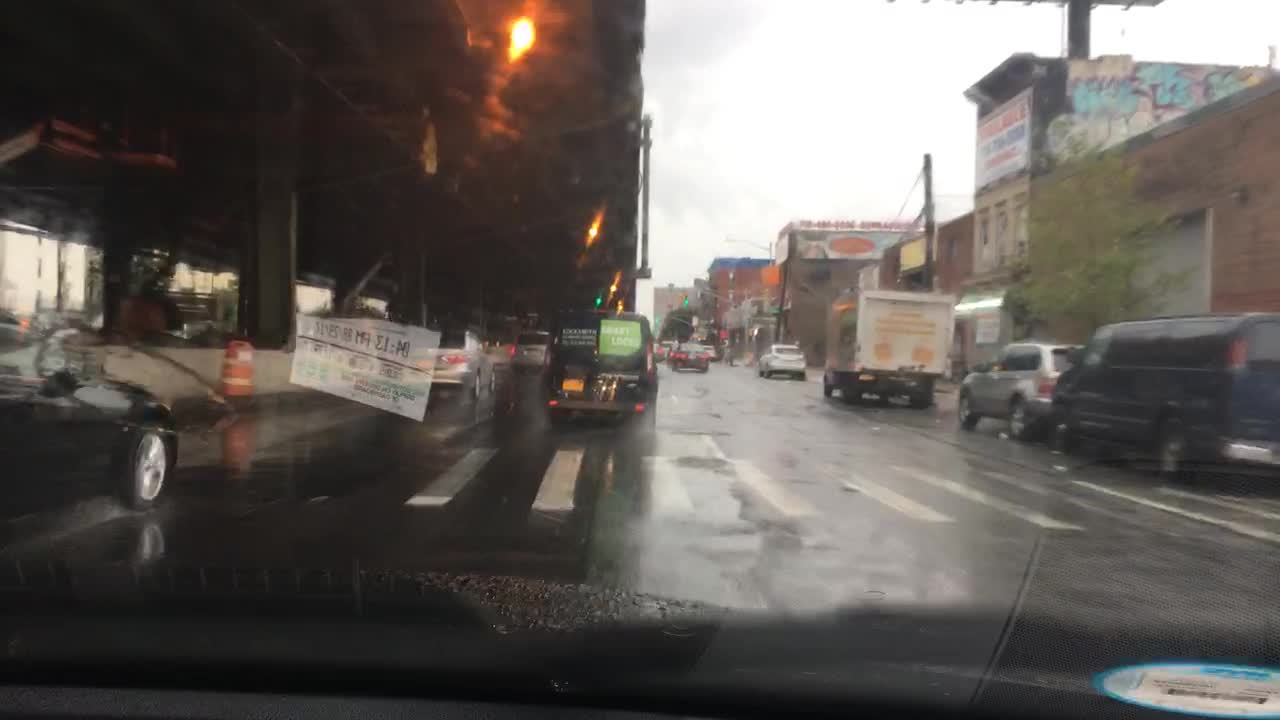car: (1044, 309, 1278, 489), (0, 297, 187, 519), (535, 304, 661, 433), (954, 339, 1082, 442), (396, 321, 499, 402), (755, 340, 810, 381), (508, 328, 557, 374), (670, 339, 712, 374), (663, 340, 684, 365), (701, 342, 726, 363), (656, 339, 675, 361)
traffic light: (592, 289, 604, 306), (683, 294, 691, 308)
truck: (819, 283, 955, 411)
